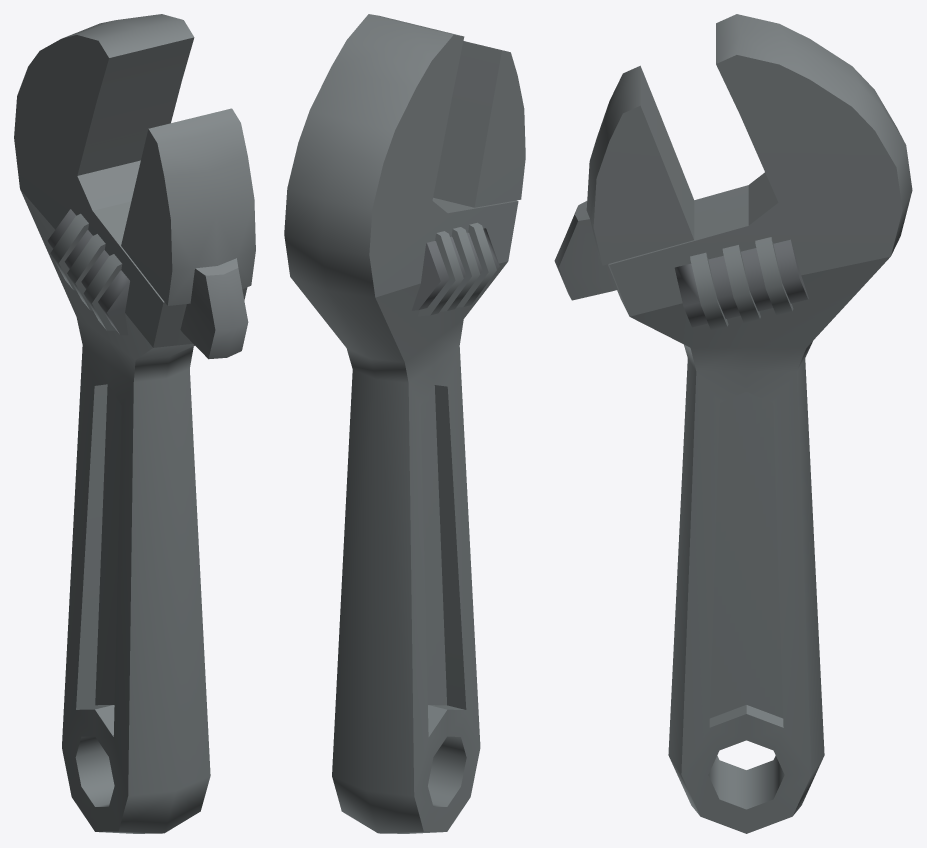
File: Wrench01.fbx
3 renders of one model, left to right at view 1: azimuth 30°, elevation 25°; view 2: azimuth 150°, elevation 25°; view 3: azimuth 270°, elevation 25°, orthographic.
Parts seen in each view (by area): view 1: ColorB; view 2: ColorB; view 3: ColorB.
Part boxes in pixels (x1,y1,x2,y2): ColorB: (14, 14, 255, 833); ColorB: (284, 14, 525, 833); ColorB: (554, 14, 912, 833).
Size of the model in its own units: 0.0994 by 0.5673 by 0.2323.
1 material, 1 textured.
